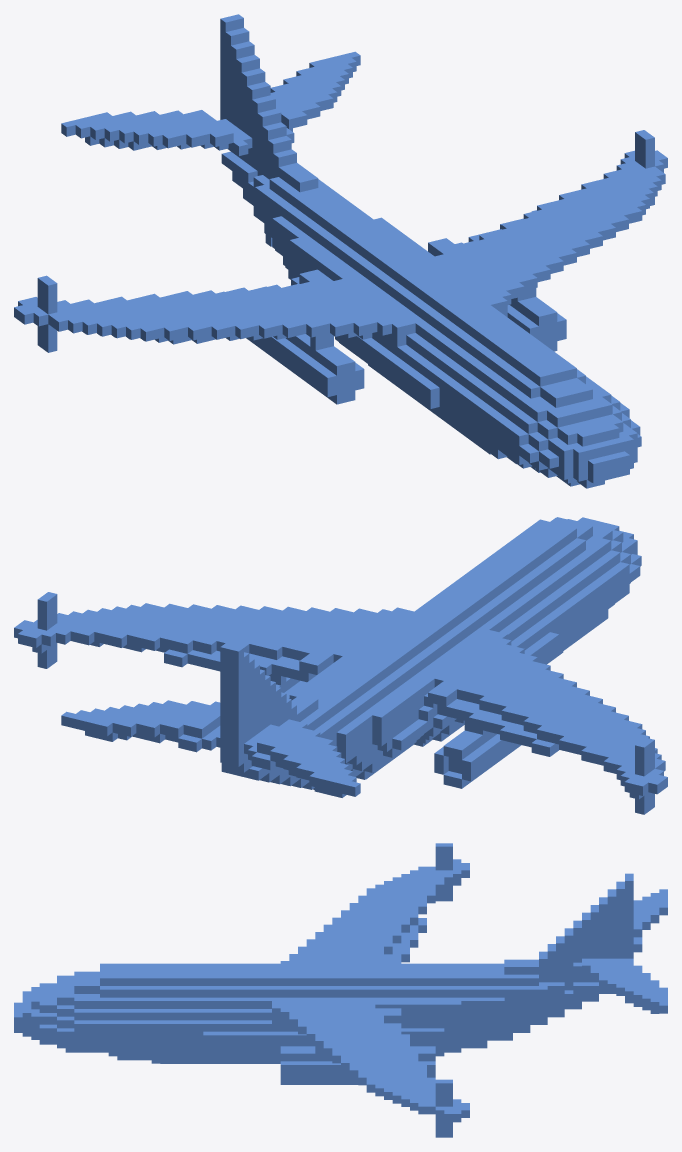
The model's file is TransportPlane.obj.
3 renders of one model, top to bottom at view 1: azimuth 30°, elevation 25°; view 2: azimuth 150°, elevation 25°; view 3: azimuth 270°, elevation 25°, orthographic. The views are drawn at different scales.
Bounding box in the file's own units: 7 × 2.3 × 7.6.
1 material, 1 textured.
